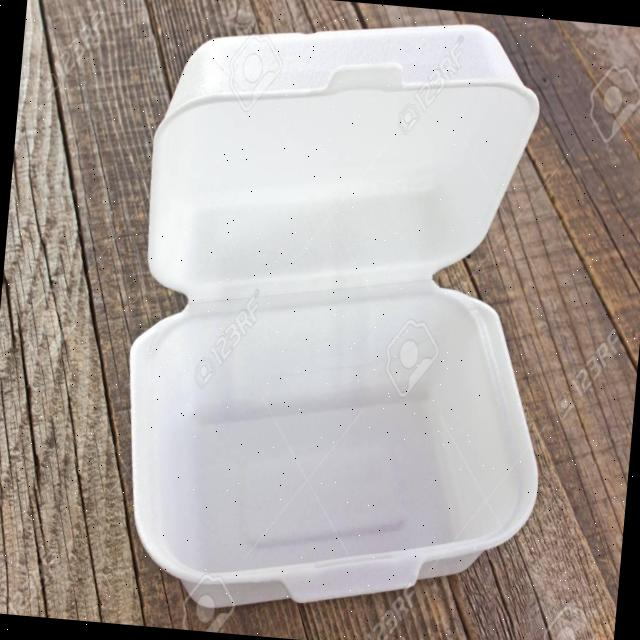styrofoam: (106, 0, 578, 636)
